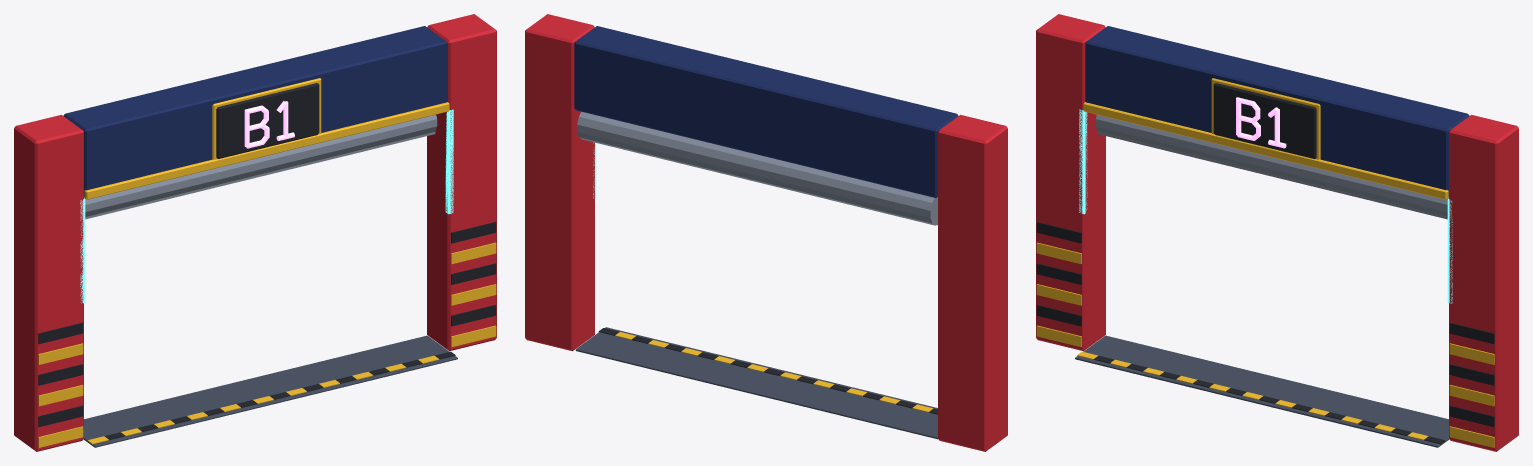
The model's file is GarageFront_B1.fbx.
3 renders of one model, left to right at view 1: azimuth 30°, elevation 25°; view 2: azimuth 150°, elevation 25°; view 3: azimuth 330°, elevation 25°, orthographic.
Parts seen in each view (by area): view 1: GarageFront_B1, Neon_Cyan, Neon_Pink; view 2: GarageFront_B1; view 3: GarageFront_B1, Neon_Cyan, Neon_Pink.
Boxes of the visible parts, x1,y1,x2,y2 form: GarageFront_B1: (14, 14, 496, 451); Neon_Cyan: (80, 109, 453, 303); Neon_Pink: (244, 101, 294, 148); GarageFront_B1: (525, 14, 1007, 451); GarageFront_B1: (1036, 14, 1518, 451); Neon_Cyan: (1079, 109, 1452, 303); Neon_Pink: (1236, 97, 1286, 148).
Bounding box in the file's own units: 28 × 18 × 3.53.
3 materials, 1 textured.
